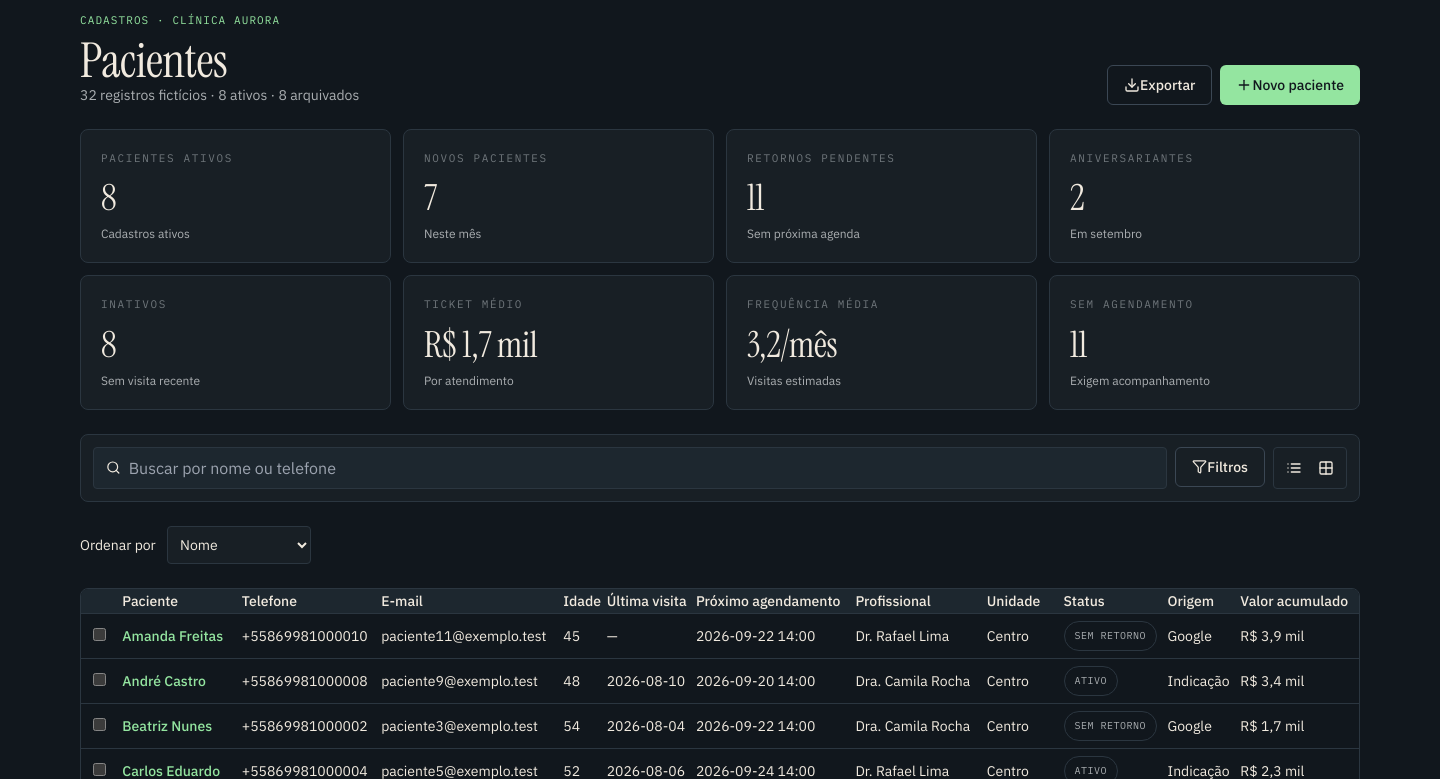
Scenario: Pacientes demonstrativos › renderiza, busca, ordena e alterna cards
In the field with placeholder "Buscar por nome ou telefone": (641, 468) top-left (129, 448), bottom-right (1154, 488), type "Marina"
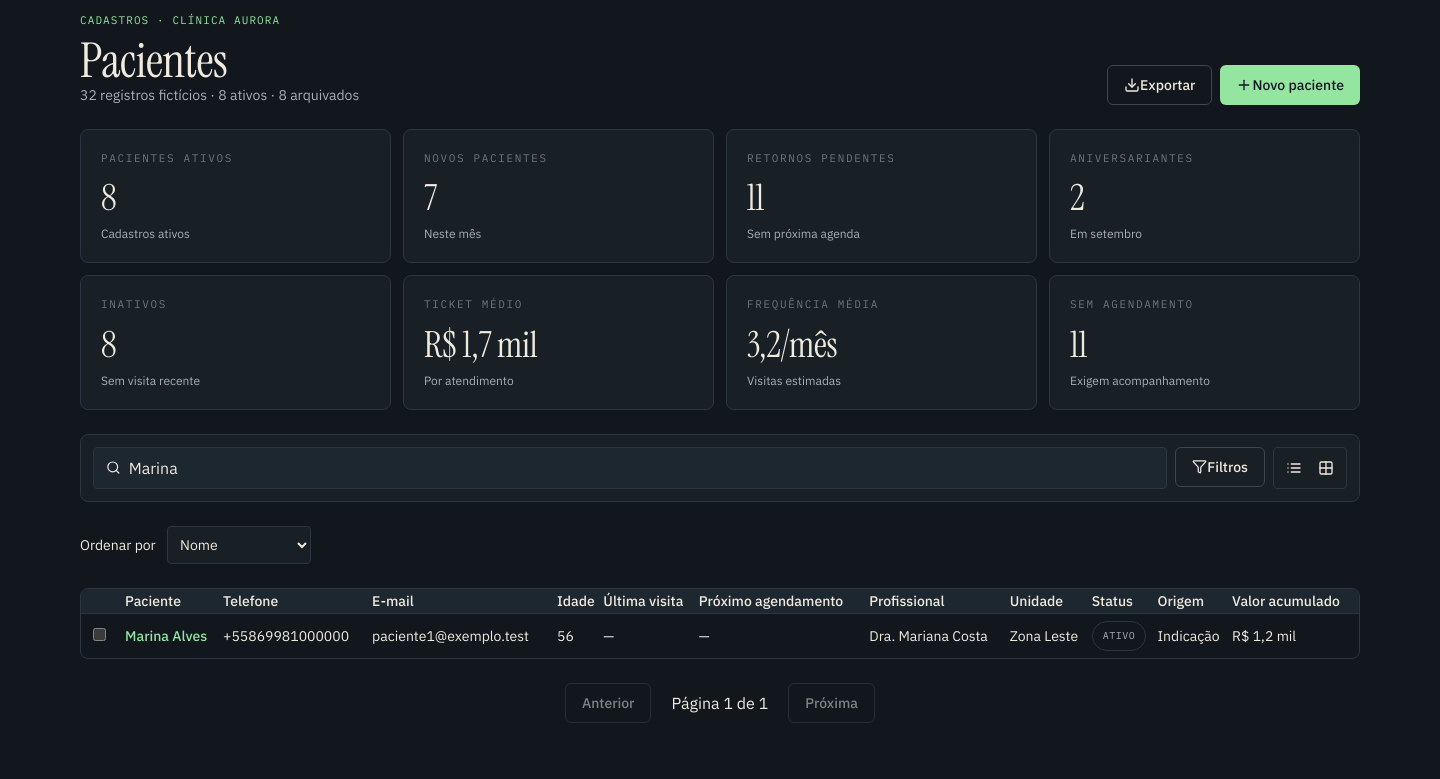
Result: the link "Marina Alves" is shown at top-left (125, 626), bottom-right (207, 644)
Select "Valor acumulado" in the dropdown named "Ordenar pacientes": (239, 544) top-left (167, 526), bottom-right (311, 564)
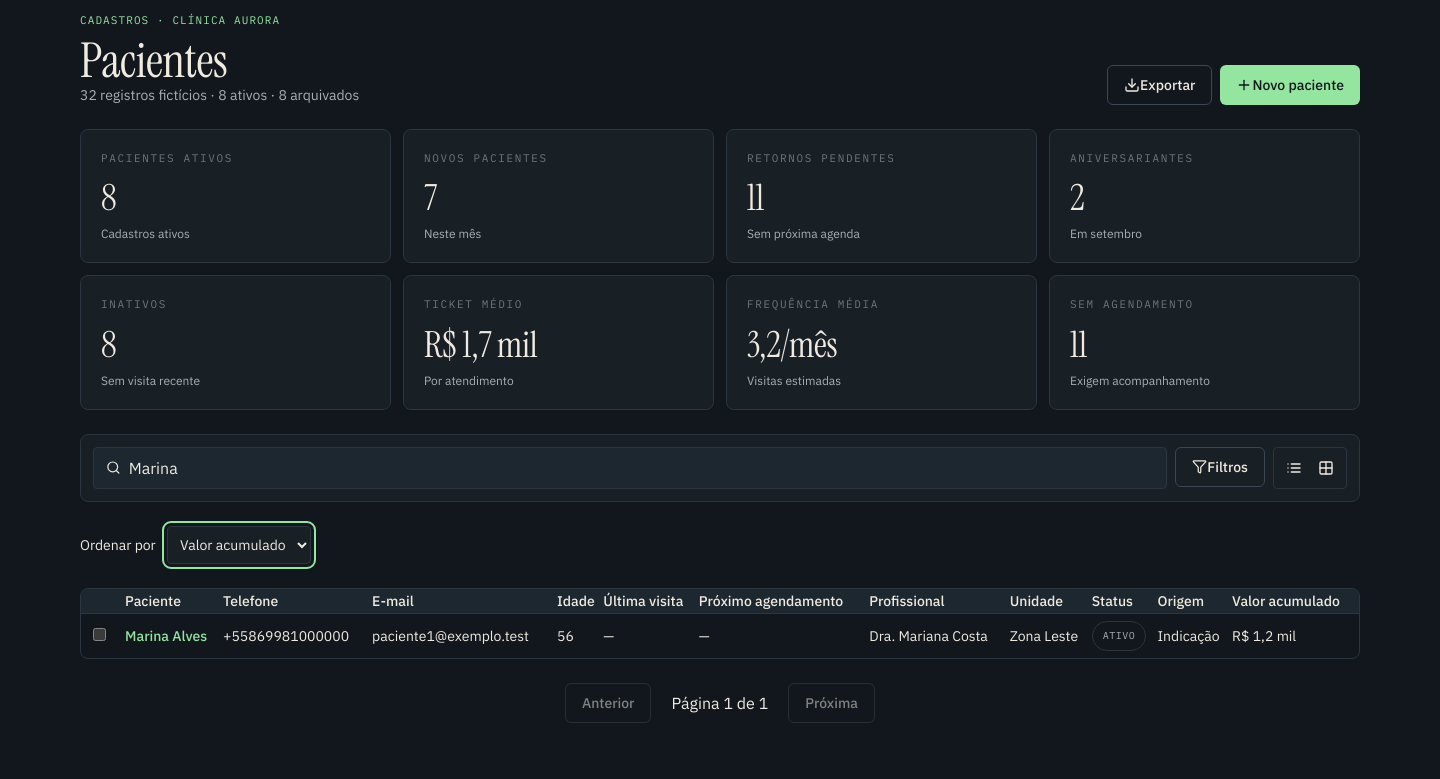
Click the button named "Visualização em cards": (1326, 468) top-left (1310, 452), bottom-right (1342, 484)
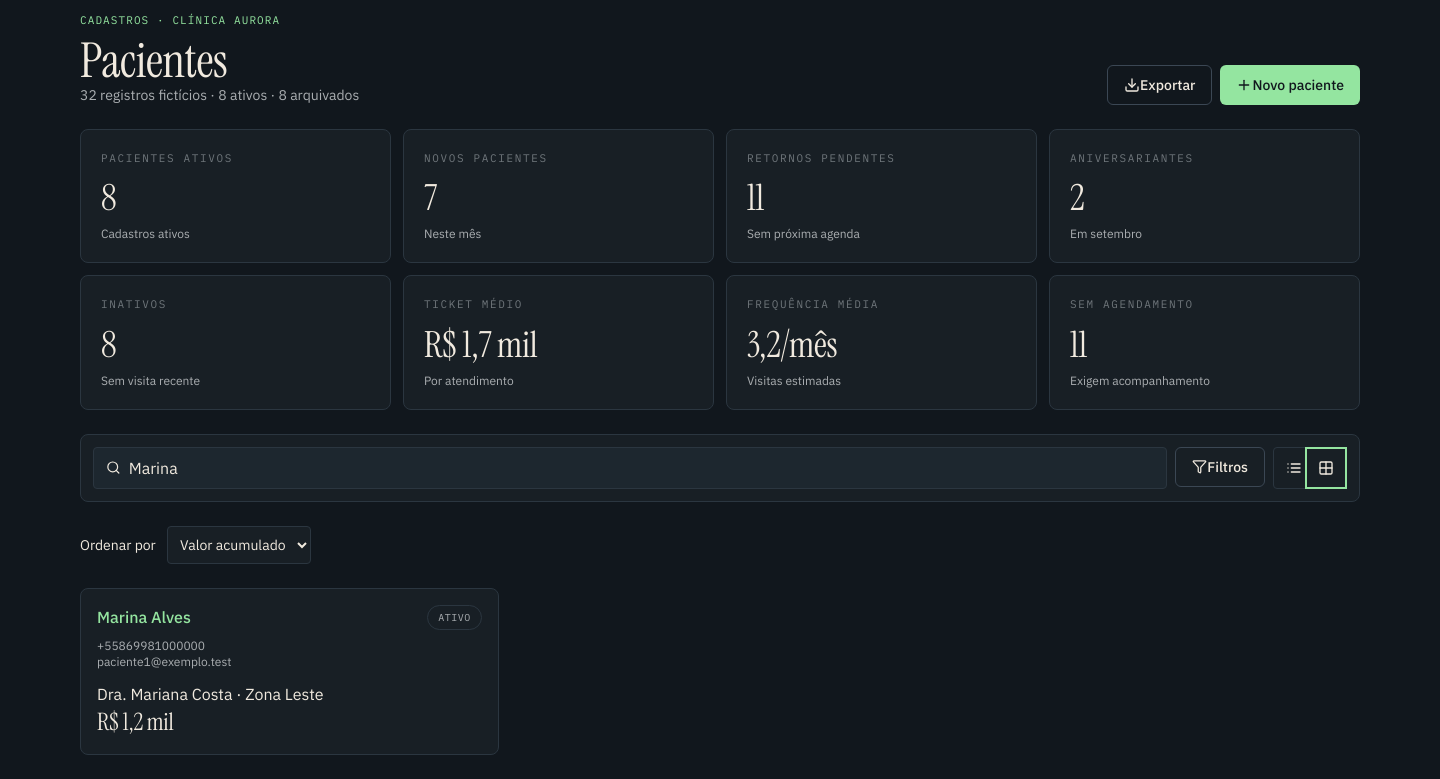
Result: the element named "Cards de pacientes" is shown at top-left (80, 588), bottom-right (499, 754)
